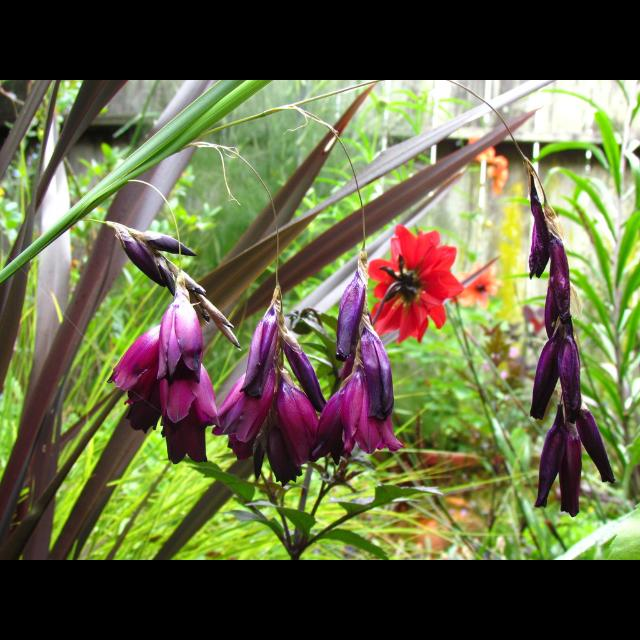Flower: (103, 220, 405, 492), (527, 157, 619, 518), (109, 224, 243, 350), (361, 222, 475, 342), (308, 358, 408, 469), (266, 374, 330, 484), (107, 316, 177, 406), (208, 358, 278, 448), (154, 268, 206, 382), (156, 340, 220, 432), (528, 321, 580, 422), (238, 296, 284, 398), (333, 246, 369, 374), (567, 392, 615, 482), (278, 332, 328, 413), (542, 197, 570, 339), (533, 401, 569, 511), (359, 314, 397, 418), (160, 379, 207, 458), (468, 132, 514, 192), (526, 165, 550, 277), (454, 260, 506, 310), (120, 376, 160, 436), (560, 412, 582, 520)
